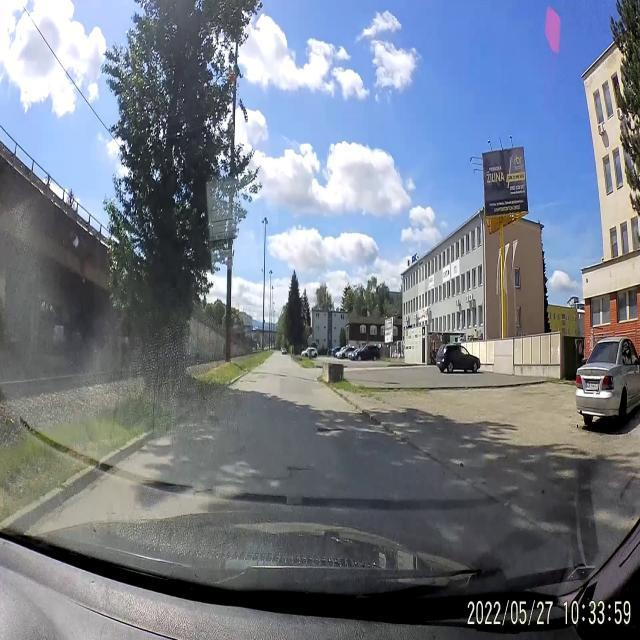Pothole: (314, 424, 340, 438), (284, 462, 306, 476)
